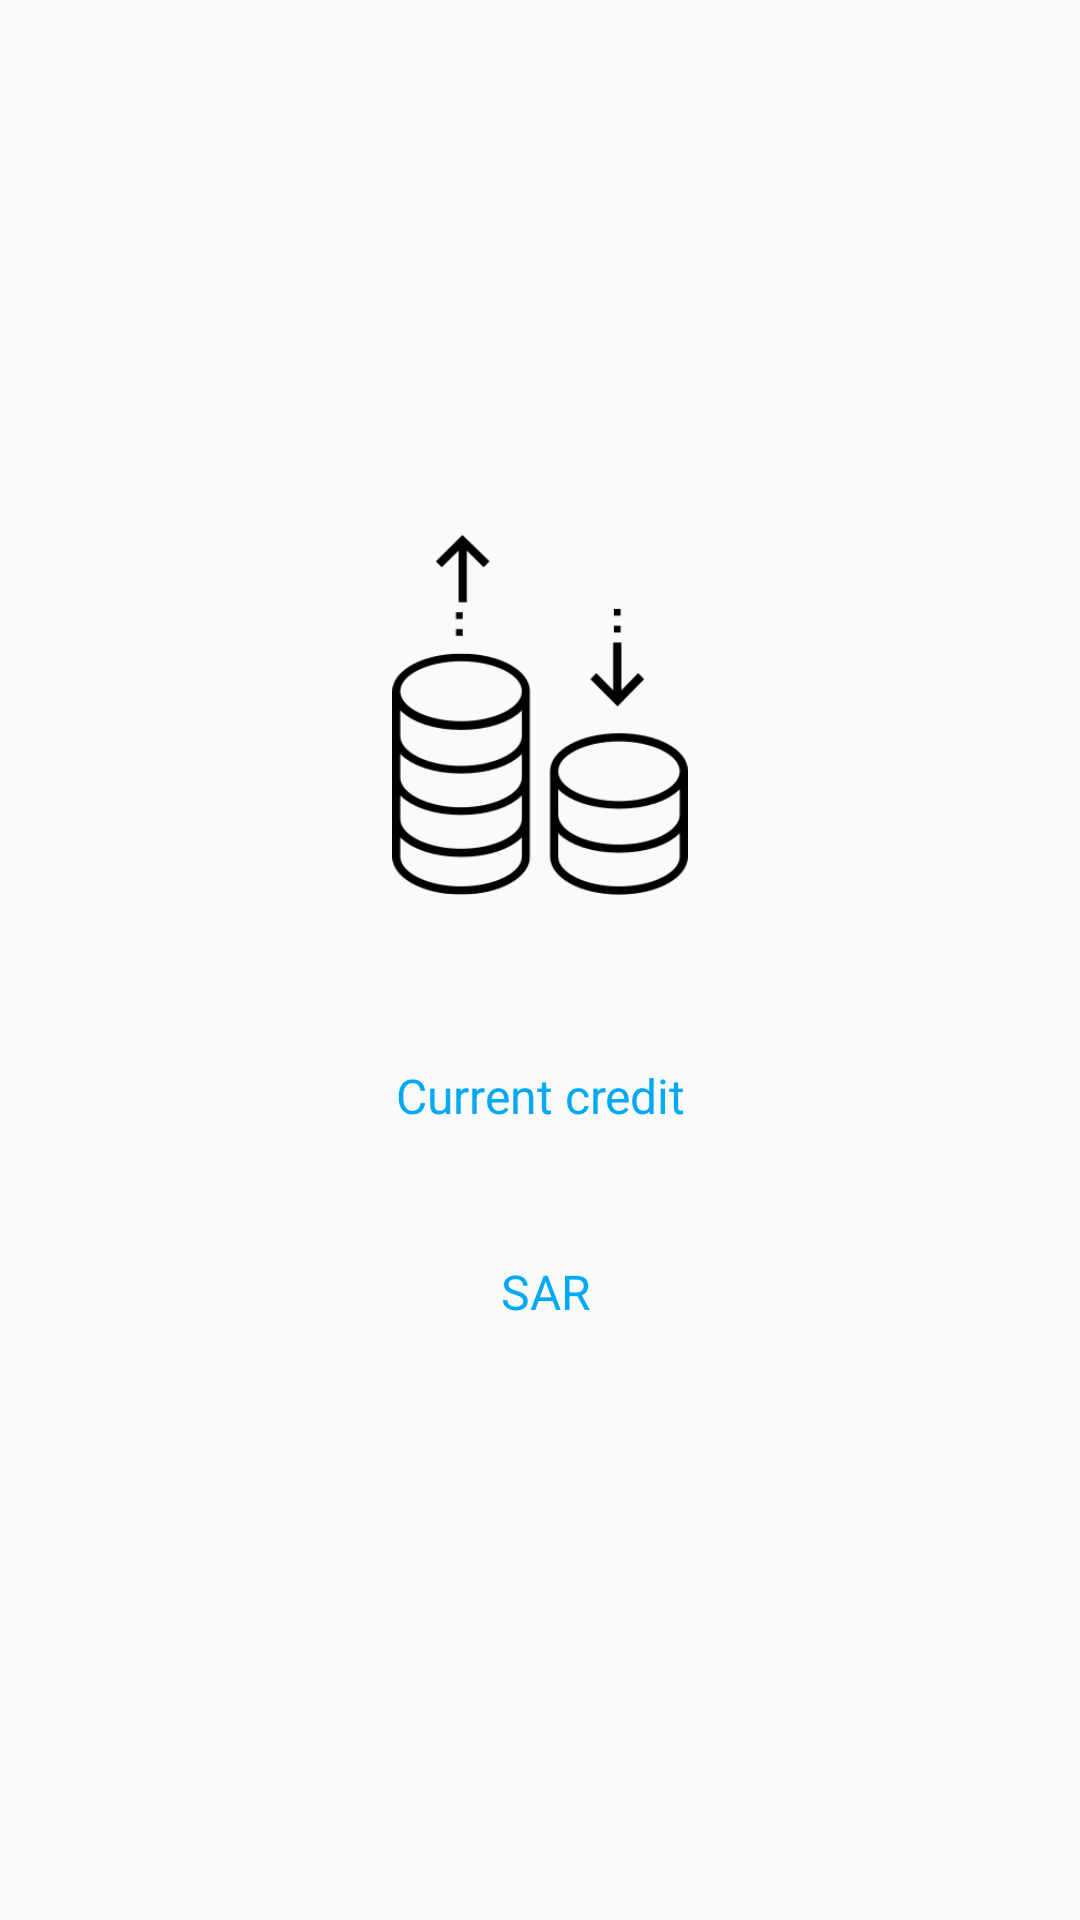

Screen size 1080w x 1920h. Icon name, then its box in pixels as bbox=[x1, y1, x2, y2]:
credits: bbox=[392, 535, 688, 895]
